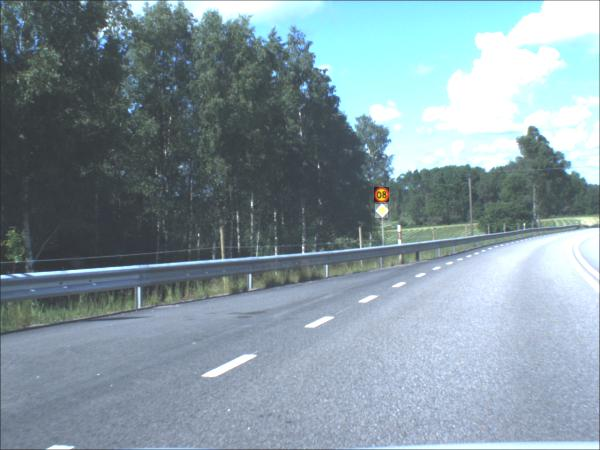80_SIGN: (374, 188, 390, 204)
PRIORITY_ROAD: (375, 205, 389, 220)
